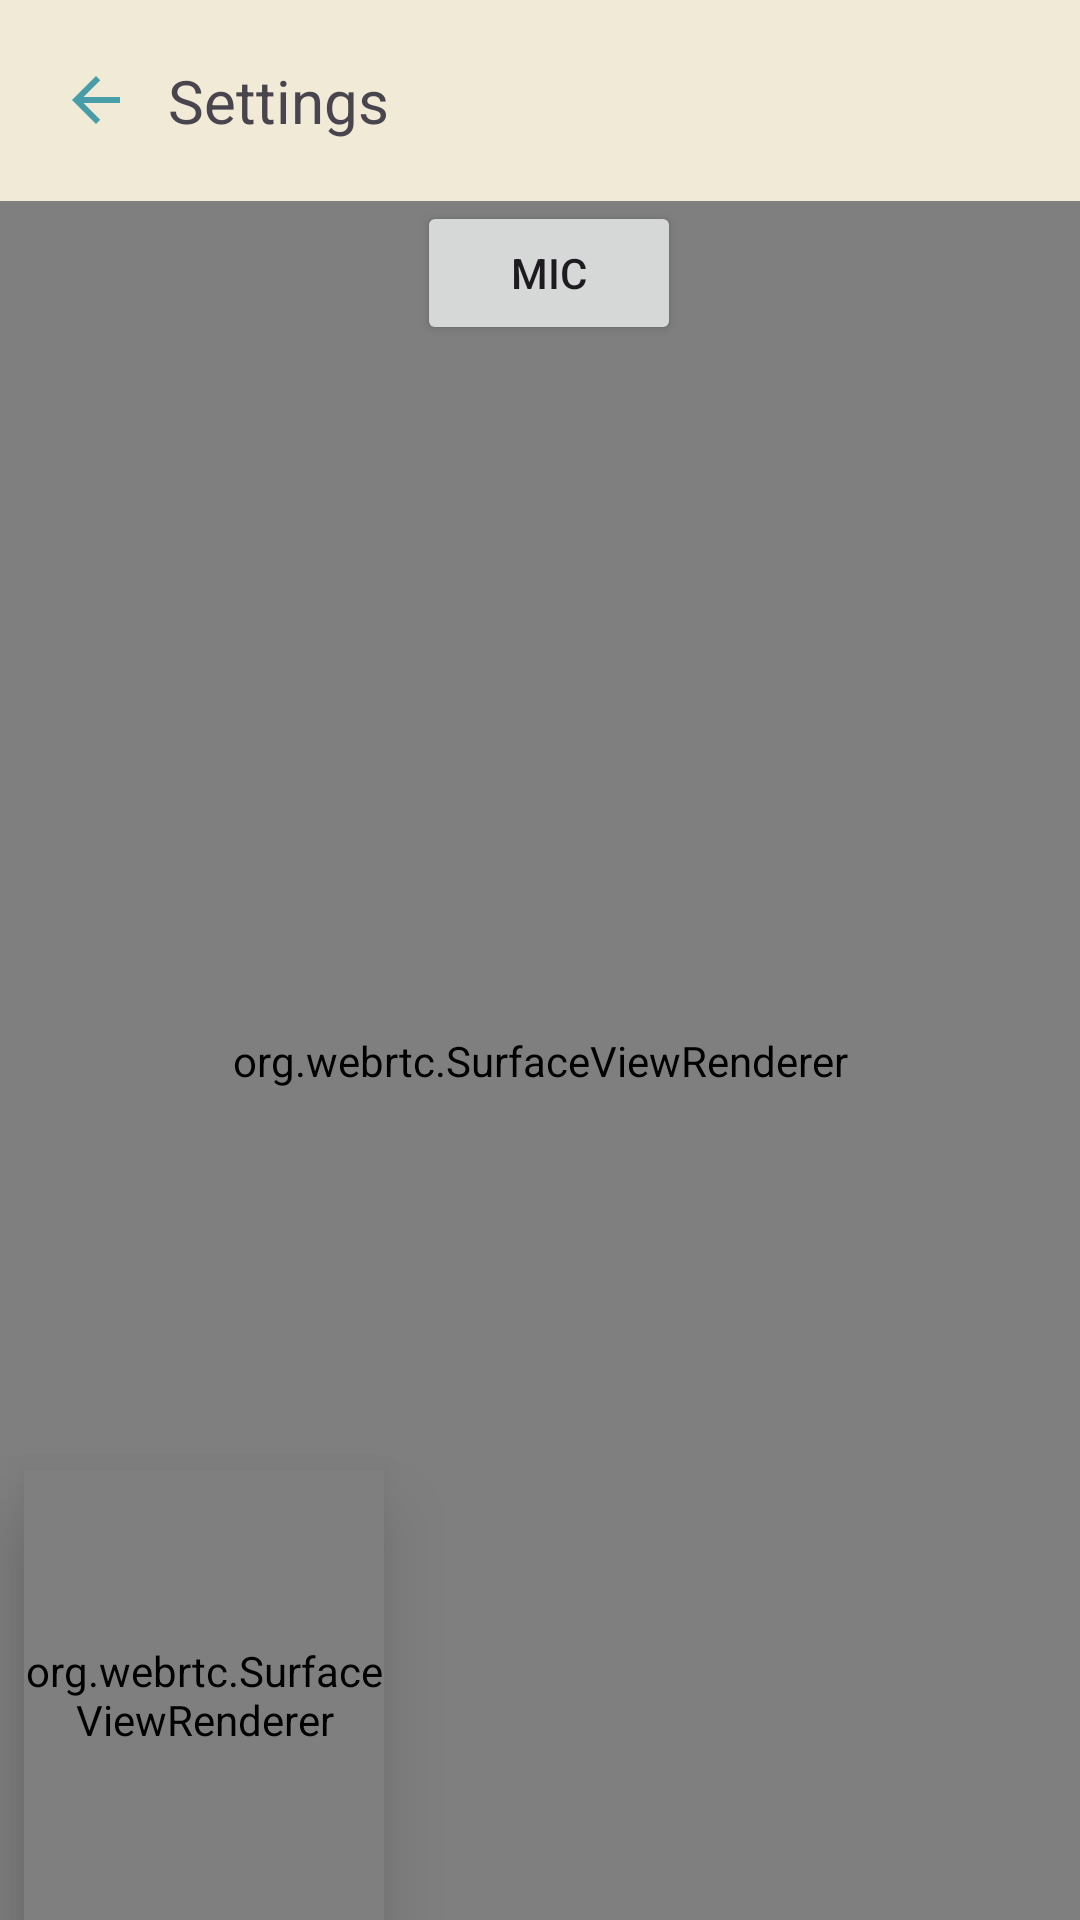

Where to tap for icons on this 1080*1920 app screen, as (x=x, y=y):
arrow back: (x=96, y=100)
